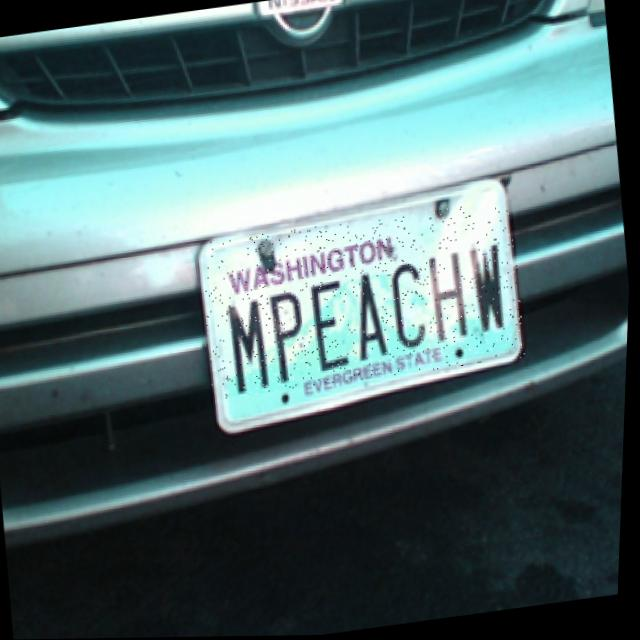license_plate: (196, 201, 532, 401)
